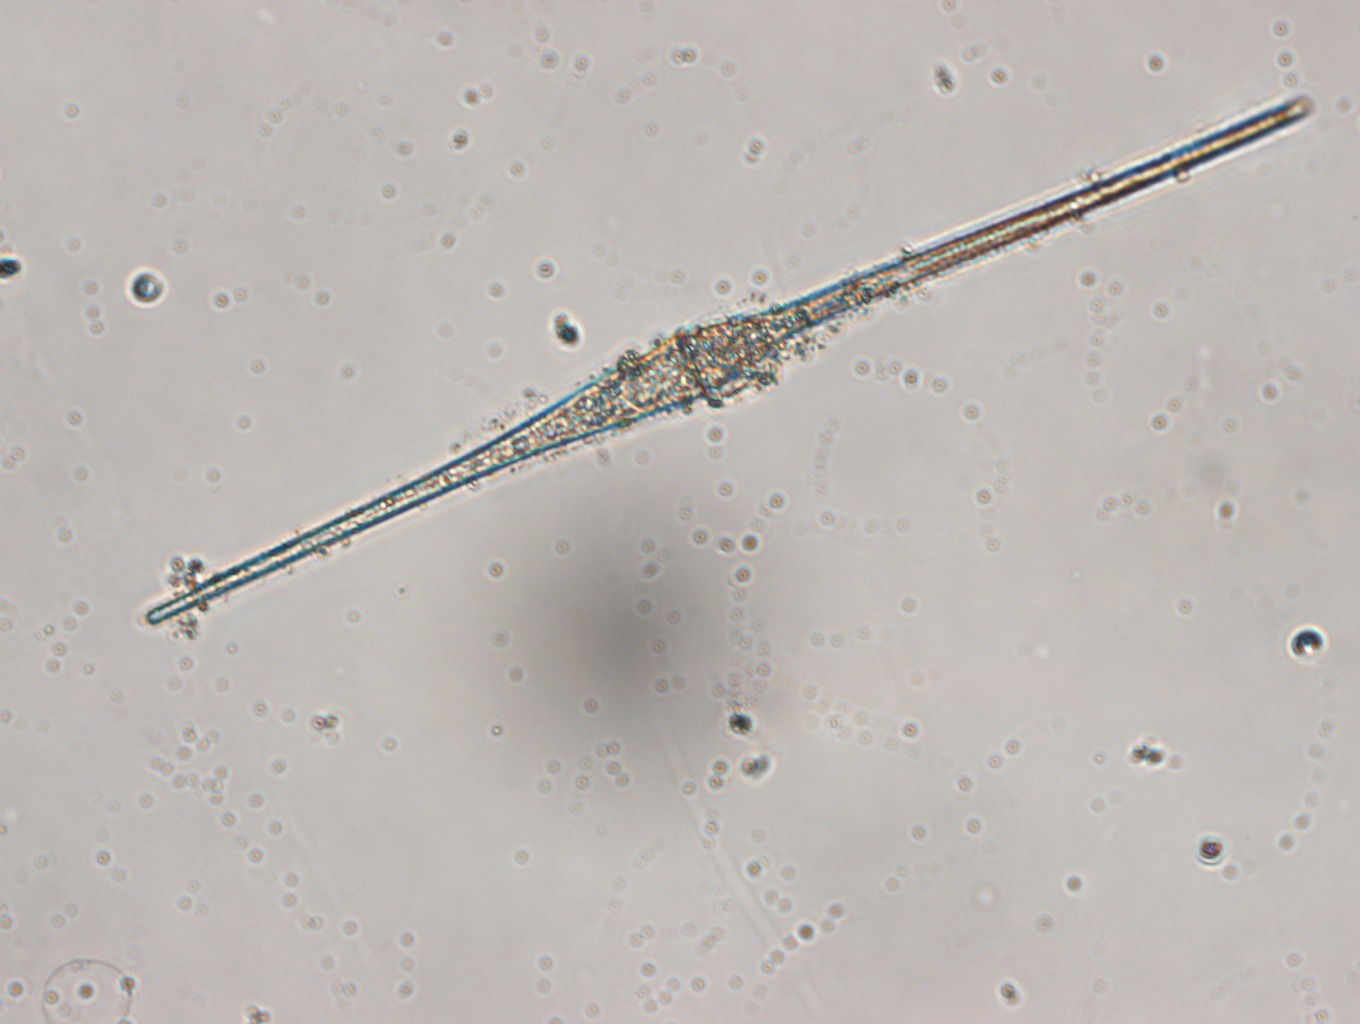ceratium fusus: (144, 93, 1314, 629)
